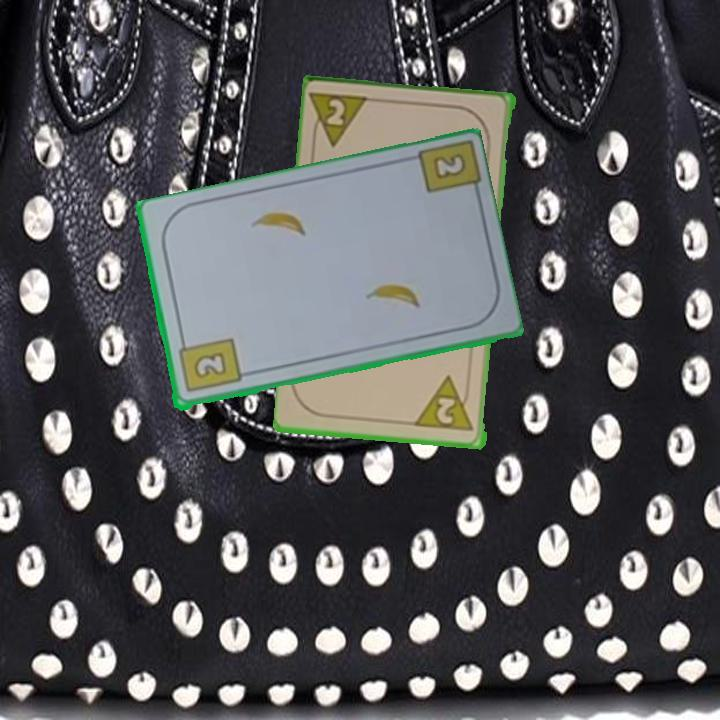2b: (174, 335, 243, 396), (429, 149, 469, 183)
2p: (309, 89, 375, 152), (414, 373, 477, 435)
